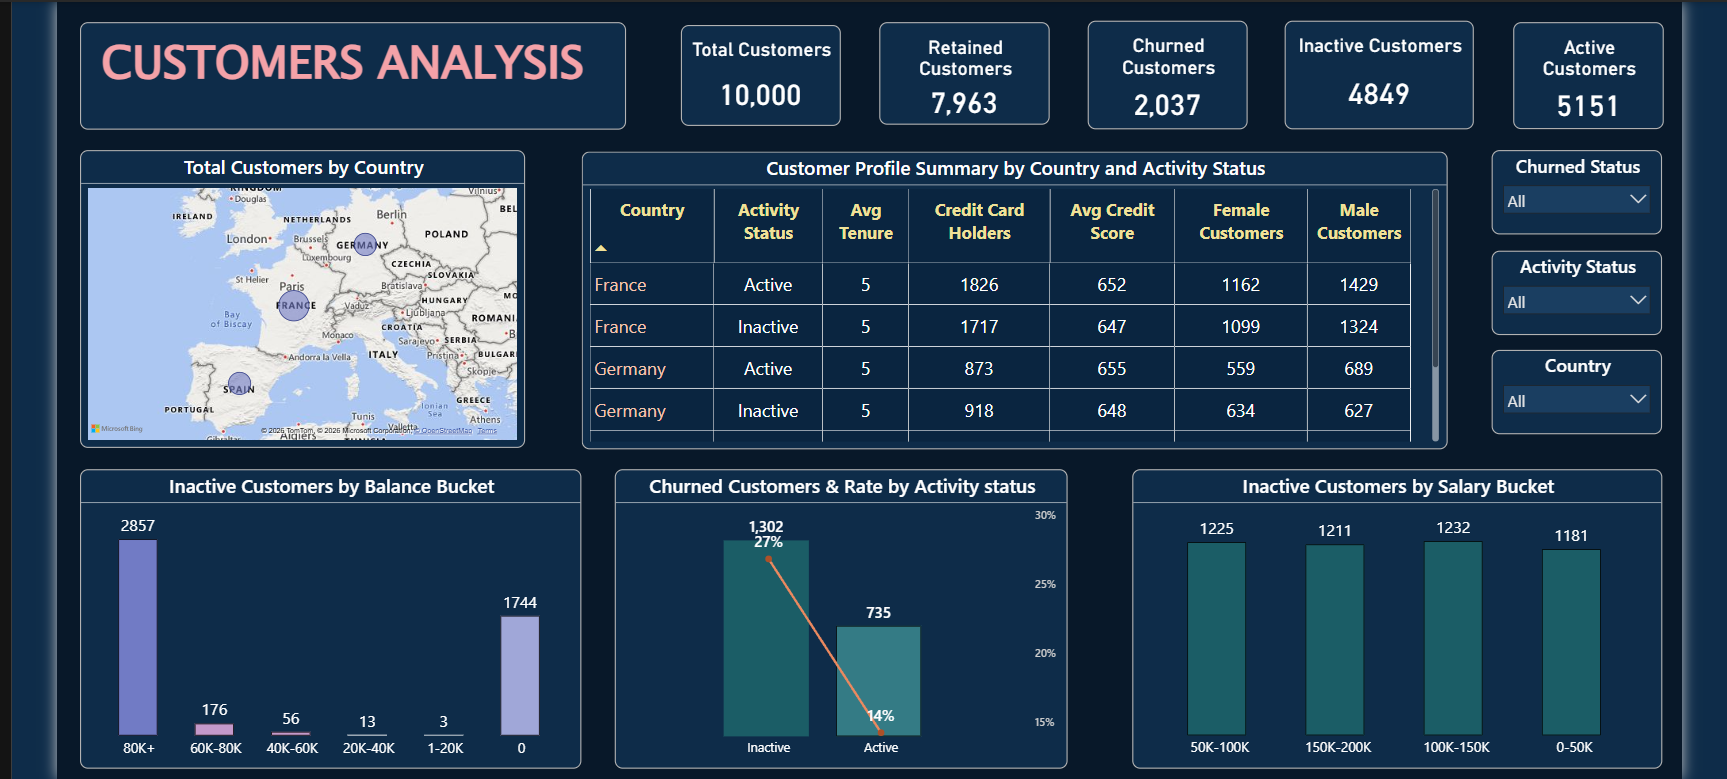

Layout of this report page (visuals, bound fields, positions):
{"tool":"powerbi","page":{"name":"Customer Engagement And Loyalty","canvas":[2050,980],"ordinal":4},"visuals":[{"type":"textbox","box":[29,25.4,688.9,136],"z":0},{"type":"slicer","title":"Churned Status","fields":{"Values":["Bank_Churn_01.churned_status"]},"box":[1809.9,187,215,106.7],"z":1000},{"type":"slicer","title":"Activity Status","fields":{"Values":["Bank_Churn_01.activity_status"]},"box":[1809.9,313.7,215,106.7],"z":2000},{"type":"slicer","title":"Country","fields":{"Values":["Bank_Churn_01.country"]},"box":[1809.9,438.7,215,106.7],"z":3000},{"type":"card","title":"Total Customers","fields":{"Values":["Measuress.Total Customers"]},"box":[786.7,29.4,201.6,127.2],"z":4000},{"type":"card","title":"Churned Customers","fields":{"Values":["Measuress.Churned Customers"]},"box":[1299.4,23.5,201.6,137],"z":5000},{"type":"card","title":"Retained Customers","fields":{"Values":["Measuress.Retained Customers"]},"box":[1036.2,25.4,215.3,129.2],"z":6000},{"type":"map","title":"Total Customers by Country","fields":{"Size":["Measuress.Total Customers"],"Category":["Bank_Churn_01.country"]},"box":[29.4,185.9,561.6,375.7],"z":7000},{"type":"card","title":"Inactive Customers","fields":{"Values":["Measuress.Inactive Customers"]},"box":[1548.9,23.5,238.7,137],"z":8000},{"type":"card","title":"Active Customers","fields":{"Values":["Measuress.Active Customers"]},"box":[1835.6,25.4,189.8,135],"z":9000},{"type":"columnChart","fields":{"Y":["Measuress.Inactive Customers"],"Category":["Bank_Churn_01.Balance Bucket"]},"box":[29.4,589,632.1,377.7],"z":10000},{"type":"tableEx","title":"Customer Profile Summary by Country and Activity Status","fields":{"Values":["Bank_Churn_01.country","Bank_Churn_01.activity_status","Measuress.AVG Tenure","Measuress.Credit Card Holders","Measuress.AVG Credit Score","Measuress.Total Female customers","Measuress.Total Male customers"]},"box":[661.4,187.9,1092,375.7],"z":11000},{"type":"lineStackedColumnComboChart","title":"Churned Customers & Rate by Activity status","fields":{"Category":["Bank_Churn_01.activity_status"],"Y":["Measuress.Churned Customers"],"Y2":["Measuress.Churned Rate"]},"box":[702.5,589,571.4,377.7],"z":12000},{"type":"columnChart","title":"Inactive Customers by Salary Bucket","fields":{"Y":["Measuress.Inactive Customers"],"Category":["Bank_Churn_01.Salary Bucket"]},"box":[1355.2,588.9,668.5,377.5],"z":13000}]}

Visuals, with their boxes on the page's 2050x980 design canvas (x1, y1, x2, y2). These are canvas units, not pixel positions in the 1727x779 screenshot, which may show the page scaled, cropped or inside an application window:
textbox: {"x1": 29, "y1": 25, "x2": 718, "y2": 161}
"Churned Status" slicer: {"x1": 1810, "y1": 187, "x2": 2025, "y2": 294}
"Activity Status" slicer: {"x1": 1810, "y1": 314, "x2": 2025, "y2": 420}
"Country" slicer: {"x1": 1810, "y1": 439, "x2": 2025, "y2": 545}
"Total Customers" card: {"x1": 787, "y1": 29, "x2": 988, "y2": 157}
"Churned Customers" card: {"x1": 1299, "y1": 24, "x2": 1501, "y2": 160}
"Retained Customers" card: {"x1": 1036, "y1": 25, "x2": 1252, "y2": 155}
"Total Customers by Country" map: {"x1": 29, "y1": 186, "x2": 591, "y2": 562}
"Inactive Customers" card: {"x1": 1549, "y1": 24, "x2": 1788, "y2": 160}
"Active Customers" card: {"x1": 1836, "y1": 25, "x2": 2025, "y2": 160}
columnChart - Measuress.Inactive Customers x Bank_Churn_01.Balance Bucket: {"x1": 29, "y1": 589, "x2": 662, "y2": 967}
"Customer Profile Summary by Country and Activity Status" tableEx: {"x1": 661, "y1": 188, "x2": 1753, "y2": 564}
"Churned Customers & Rate by Activity status" lineStackedColumnComboChart: {"x1": 702, "y1": 589, "x2": 1274, "y2": 967}
"Inactive Customers by Salary Bucket" columnChart: {"x1": 1355, "y1": 589, "x2": 2024, "y2": 966}
